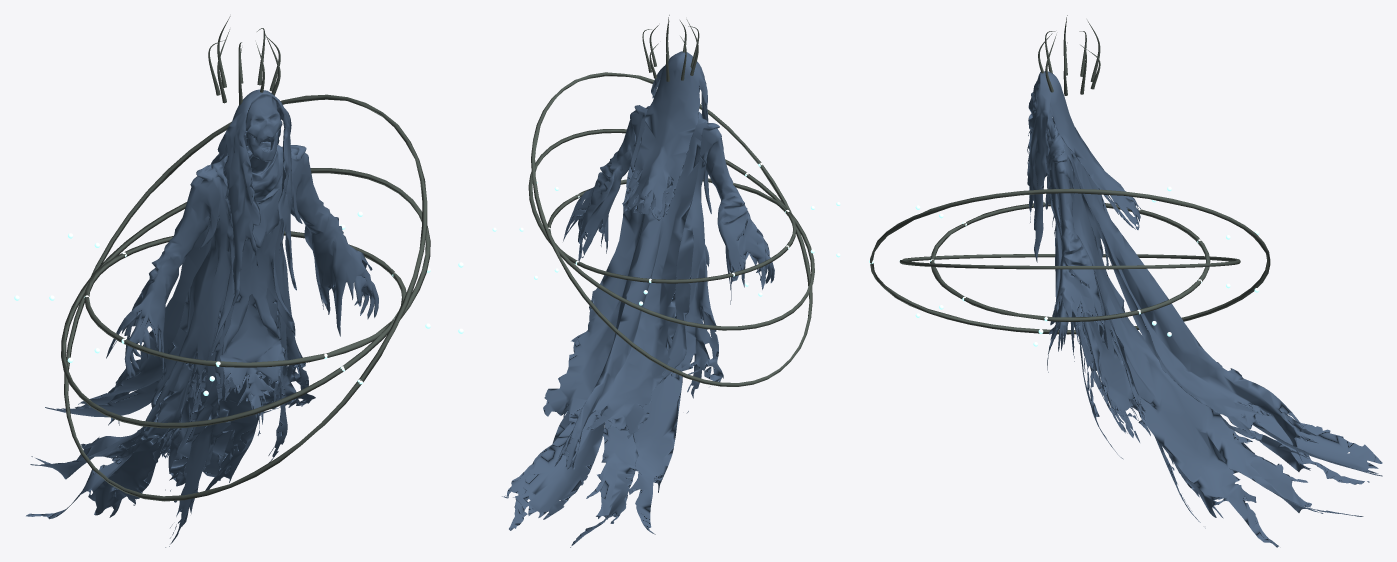
File: 09-the-stone-circle.glb
3 renders of one model, left to right at view 1: azimuth 30°, elevation 25°; view 2: azimuth 150°, elevation 25°; view 3: azimuth 270°, elevation 25°, orthographic. The views are drawn at different scales.
Visible parts, largest first — view 1: sculpt (×5); view 2: sculpt (×5); view 3: sculpt (×5).
Part boxes in pixels (<box>): sculpt (×5): <box>26,16,430,547</box>; sculpt (×5): <box>502,15,814,547</box>; sculpt (×5): <box>870,15,1382,547</box>.
Bounding box in the file's own units: 4.17 × 5.9 × 5.4.
